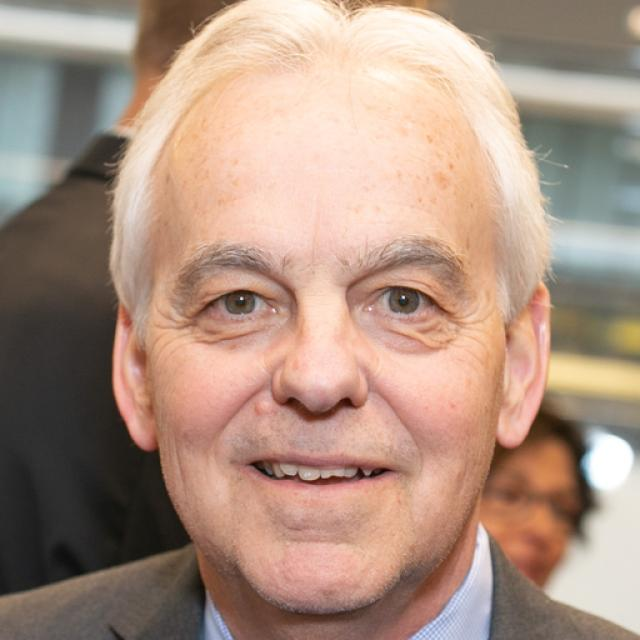Pigmentation: (390, 164, 460, 211), (210, 152, 252, 212)
Wrinkle: (158, 335, 207, 363), (450, 338, 481, 369)
